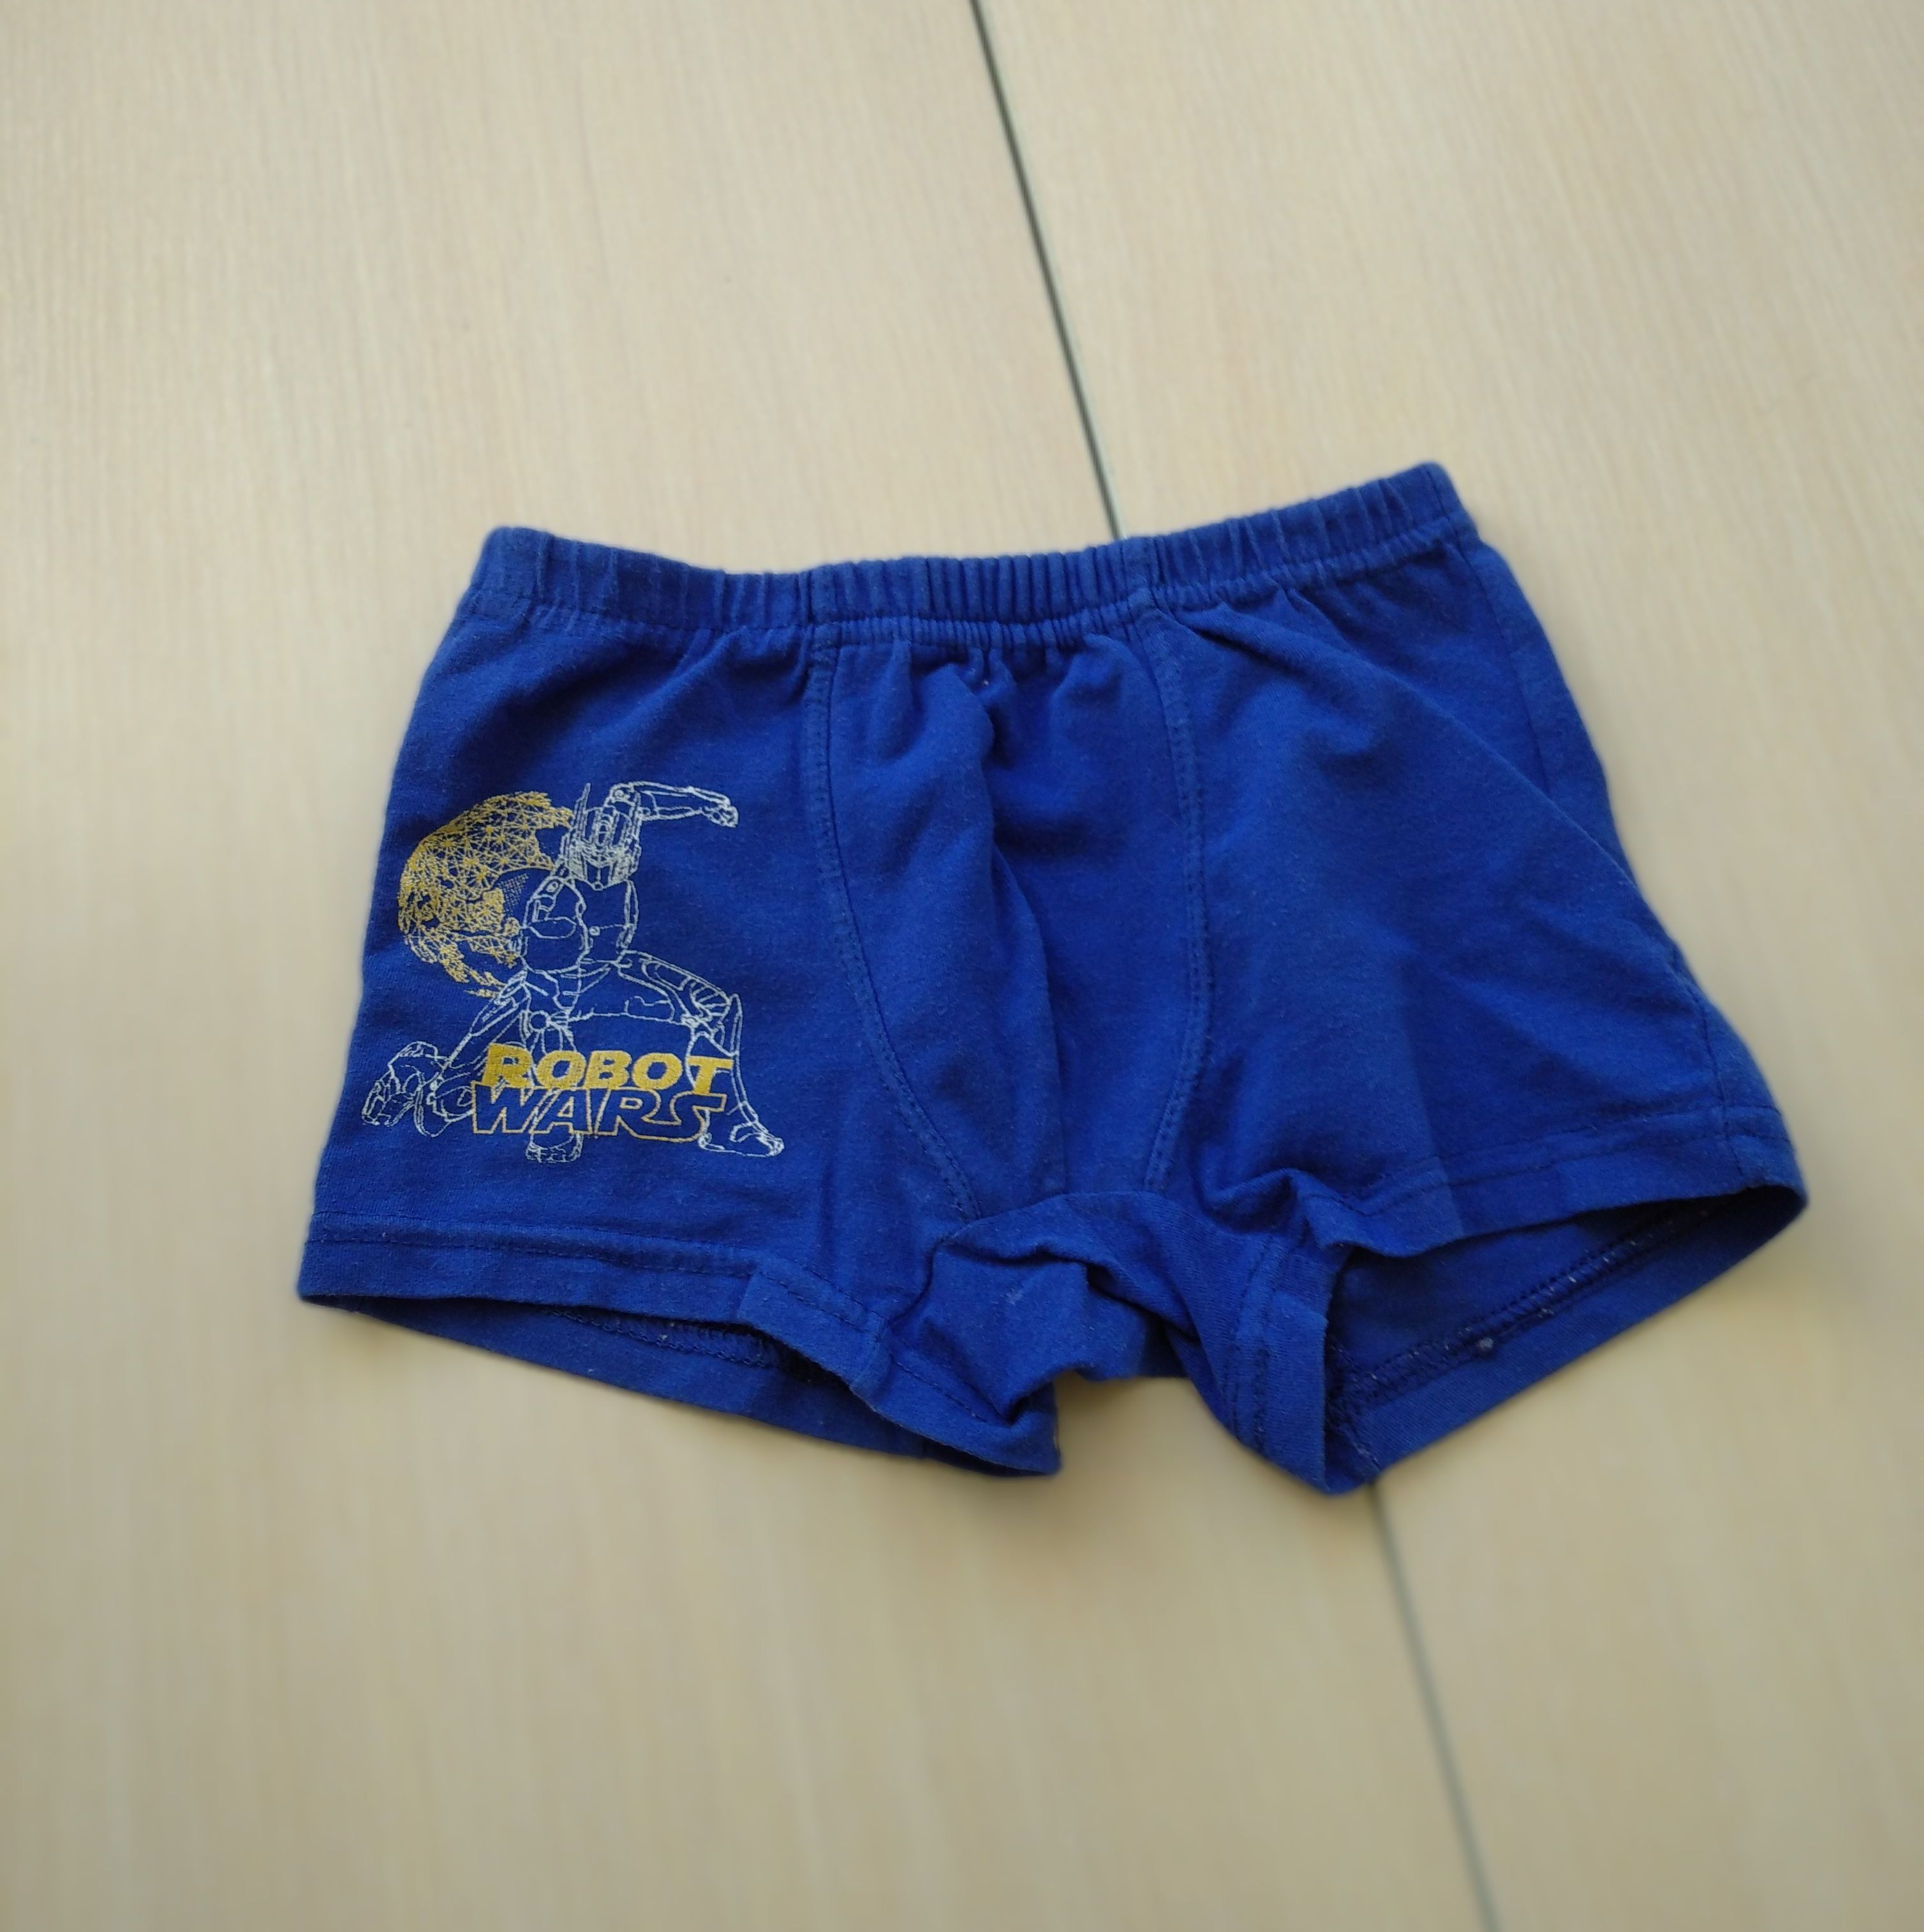clothes: (298, 458, 1790, 1495)
